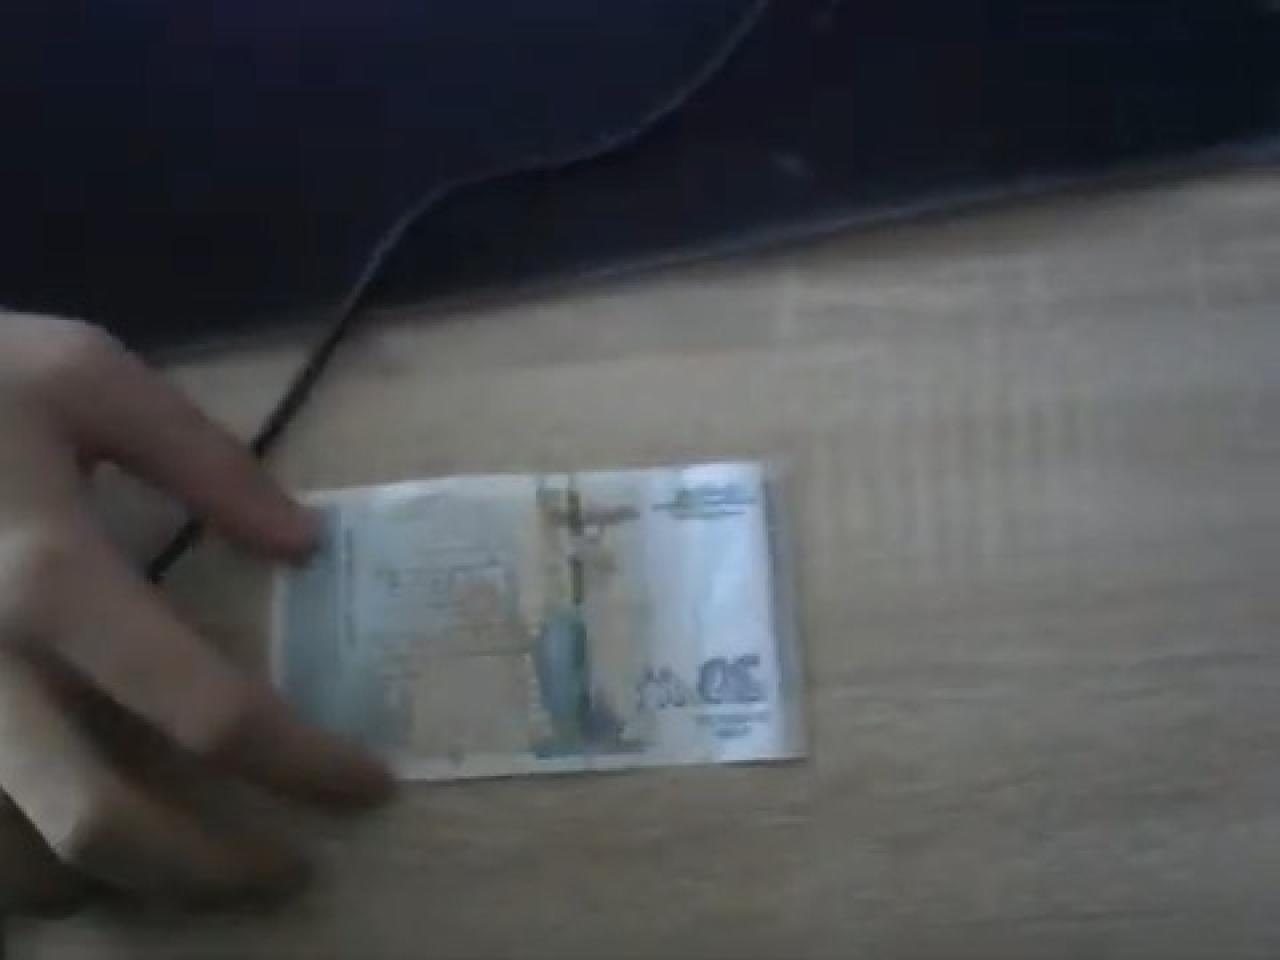20leva: (267, 450, 813, 786)
